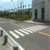zebra: (10, 25, 50, 39)
